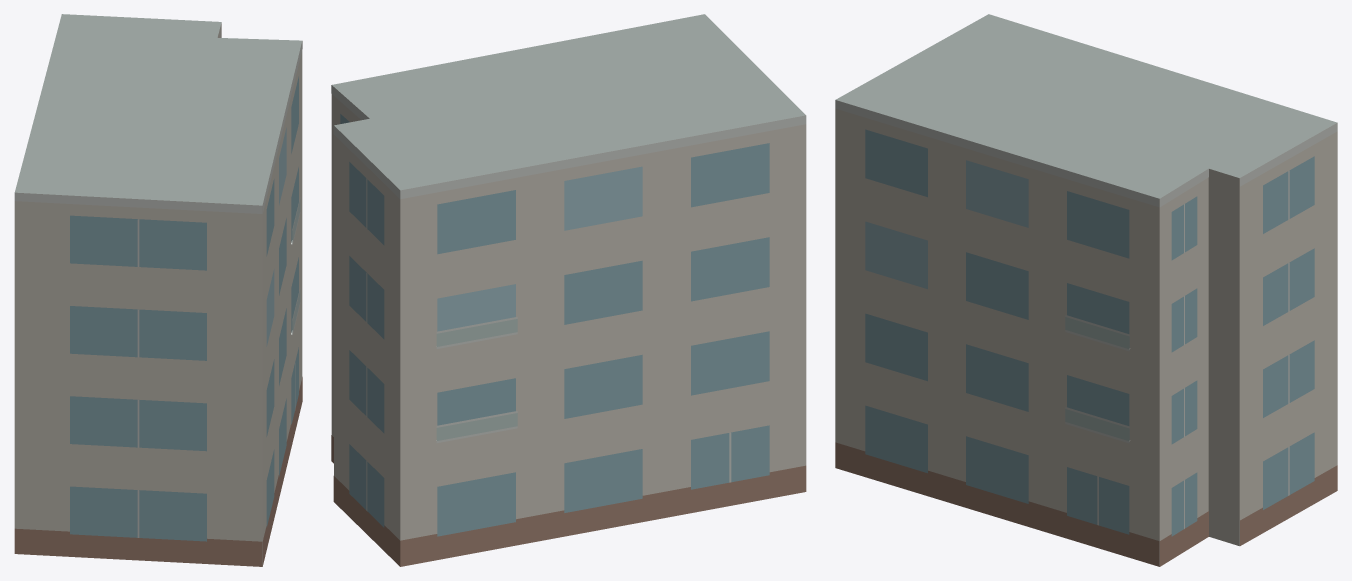
File: survey-upis-32989614.glb
The picture shows the model from 3 angles, left to right: view 1: azimuth 30°, elevation 25°; view 2: azimuth 150°, elevation 25°; view 3: azimuth 270°, elevation 25°; orthographic projection. The views are drawn at different scales.
Visible parts, largest first — view 1: survey-upis-32989614.tmp; view 2: survey-upis-32989614.tmp; view 3: survey-upis-32989614.tmp.
Part boxes in pixels (bbox=[...]): survey-upis-32989614.tmp: bbox=[14, 14, 302, 566]; survey-upis-32989614.tmp: bbox=[331, 14, 806, 566]; survey-upis-32989614.tmp: bbox=[835, 14, 1337, 566].
Bounding box in the file's own units: 11.2 × 10.4 × 12.87.
